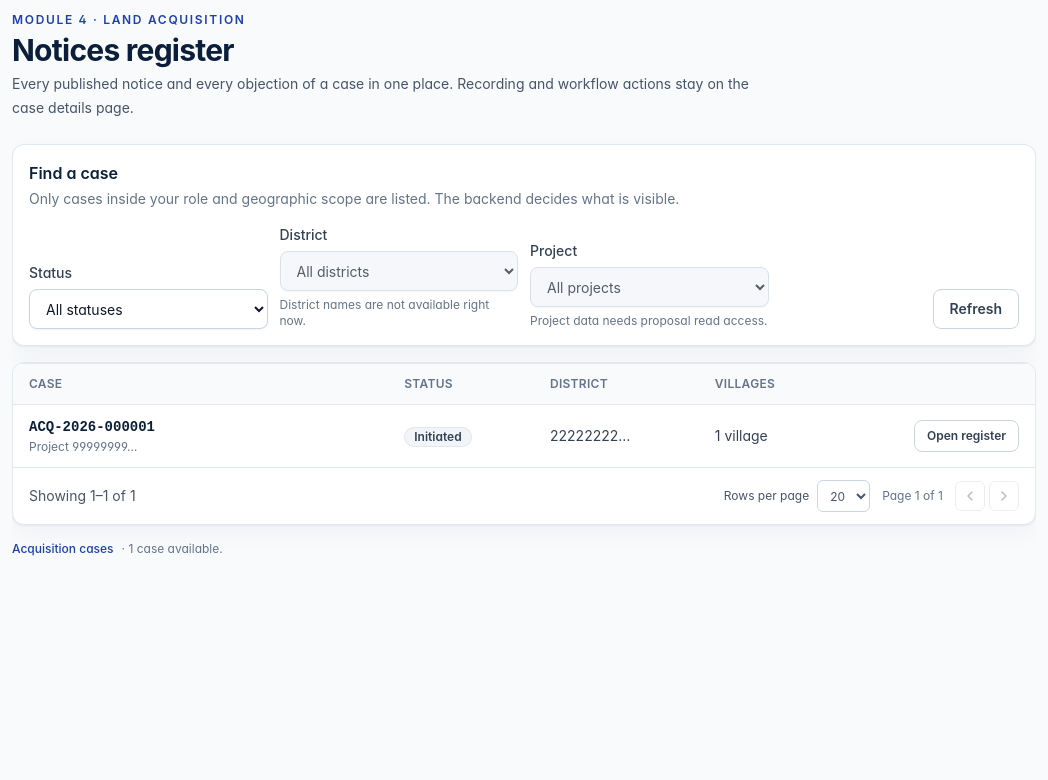
Test: NoticesRegisterPage › finds a case and opens its notices register
Check: the heading "Notices register" is shown, box [12,32,234,68]
Check: the text "ACQ-2026-000001" is shown, box [29,419,155,435]
Step 1. Click the button "Open register" → (966, 436), box [914,420,1019,452]
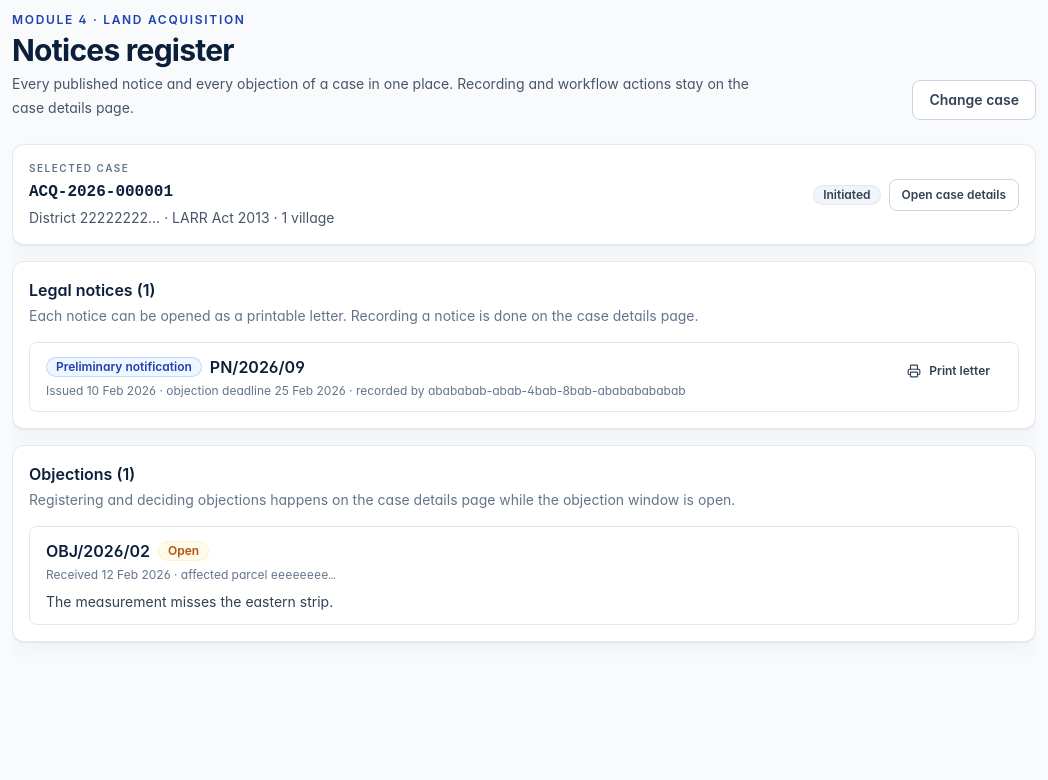
Check: the text "Selected case" is shown, box [29,162,129,174]
Check: the text "PN/2026/09" is shown, box [210,355,305,379]
Check: the text "OBJ/2026/02" is shown, box [46,539,150,563]
